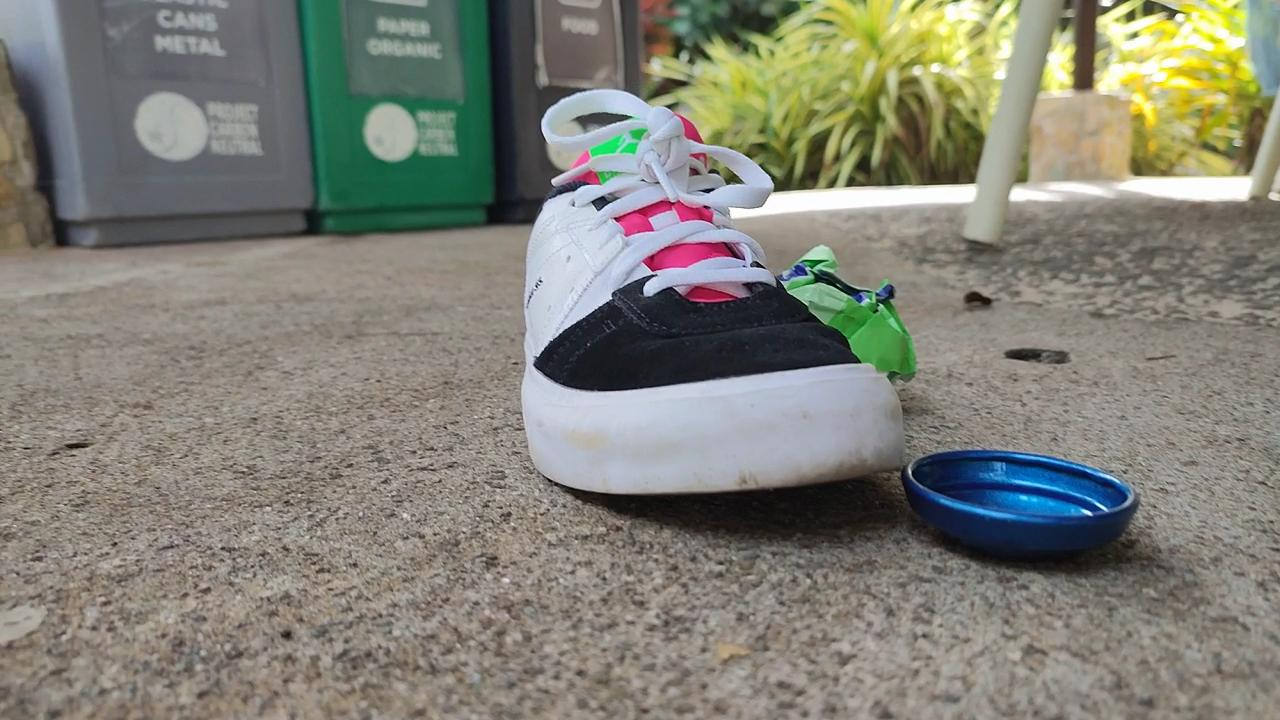Paper: (779, 234, 924, 390)
